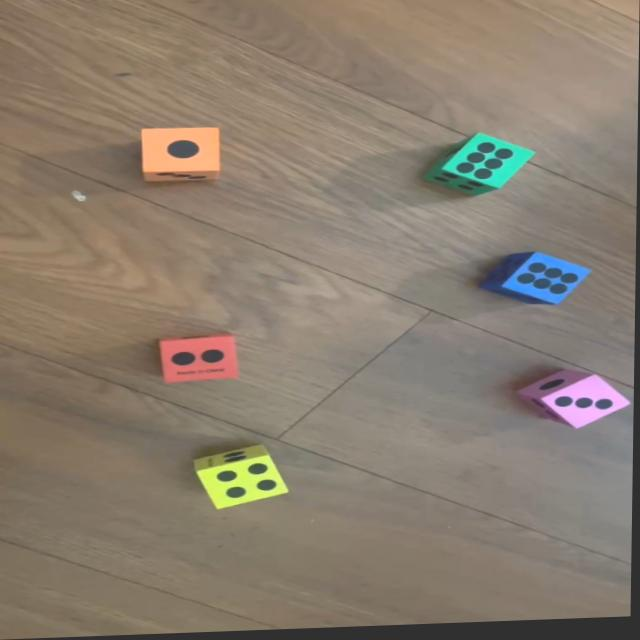cube: (431, 136, 536, 201), (485, 256, 594, 314), (157, 335, 237, 386)
